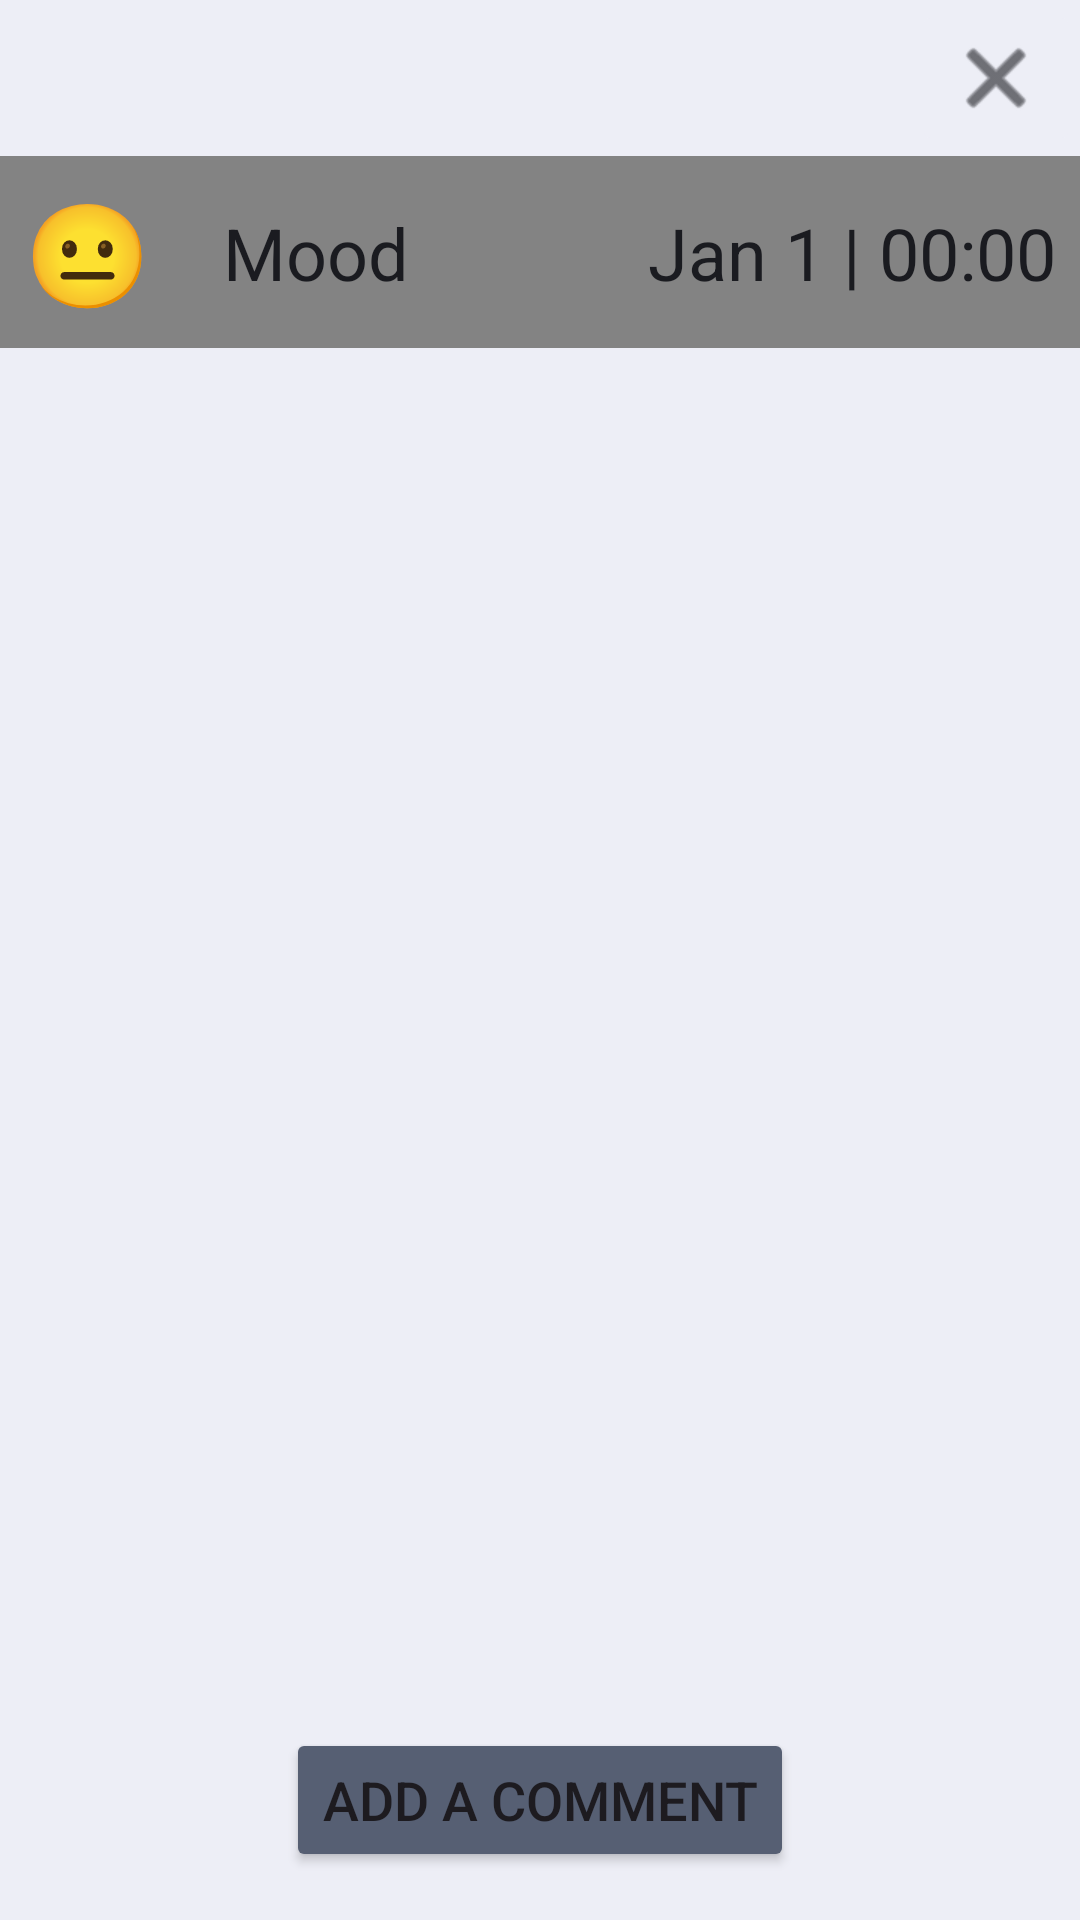

Point at icon controls on the screen. Image size 1080px x 1920px, points as [x,y].
close clear cancel: [996,78]
